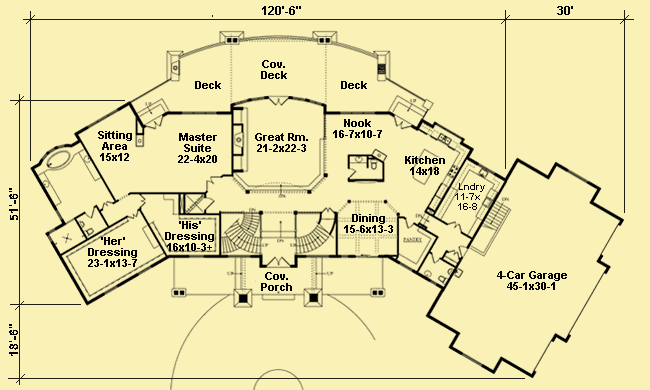door: (386, 112, 412, 133), (265, 252, 290, 269), (262, 94, 289, 108), (205, 173, 223, 191), (145, 116, 164, 132), (202, 195, 218, 213), (344, 162, 355, 182), (400, 215, 414, 230), (136, 191, 146, 209), (429, 251, 440, 265), (98, 199, 113, 209), (84, 206, 96, 218), (128, 212, 141, 218)
large sink: (368, 158, 381, 172), (435, 273, 451, 284), (81, 227, 95, 237)
small sink: (348, 155, 366, 164), (420, 267, 432, 280)
stairs: (219, 212, 265, 258), (297, 212, 338, 260), (485, 200, 513, 233)
tub: (46, 147, 78, 172)
windows: (337, 107, 376, 117), (180, 109, 219, 118)
